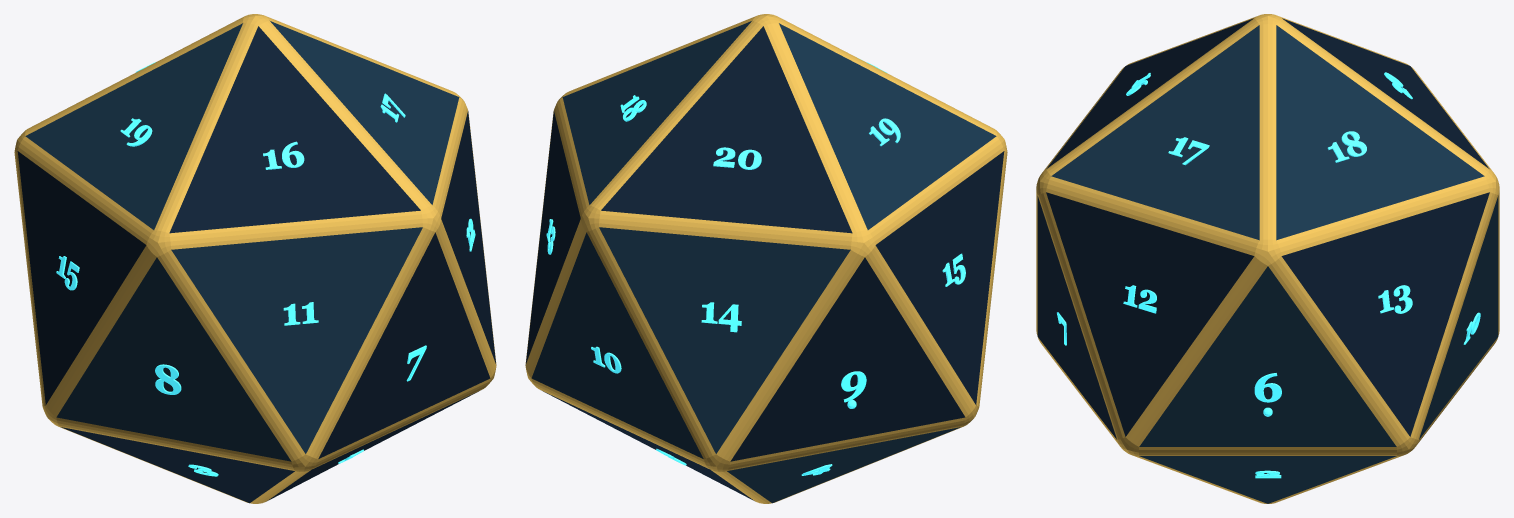
Rendered from d20_allies_leo_v6.glb.
The picture shows the model from 3 angles, left to right: view 1: azimuth 30°, elevation 25°; view 2: azimuth 150°, elevation 25°; view 3: azimuth 270°, elevation 25°; orthographic projection.
Parts seen in each view (by area): view 1: D20_Allies_Leo, Face_08, Face_16; view 2: D20_Allies_Leo, Face_20, Face_14; view 3: D20_Allies_Leo, Face_18, Face_13.
Boxes of the visible parts, box(x1,y1,x2,y2) form: D20_Allies_Leo: box(14, 14, 496, 503); Face_08: box(155, 364, 181, 394); Face_16: box(263, 141, 304, 169); D20_Allies_Leo: box(525, 14, 1007, 503); Face_20: box(713, 147, 761, 169); Face_14: box(701, 302, 741, 332); D20_Allies_Leo: box(1036, 14, 1499, 503); Face_18: box(1327, 131, 1366, 162); Face_13: box(1378, 285, 1412, 313).
Bounding box in the file's own units: 3.53 × 3.91 × 3.38.
